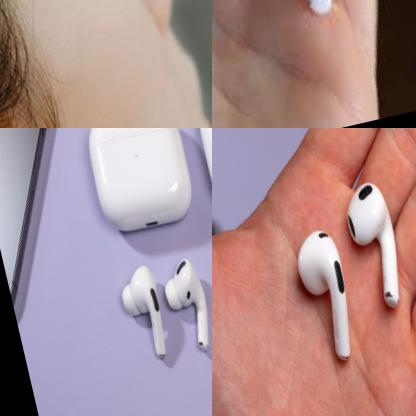Airpods: (292, 226, 364, 368), (340, 181, 412, 318), (114, 262, 179, 372), (161, 251, 212, 356)
